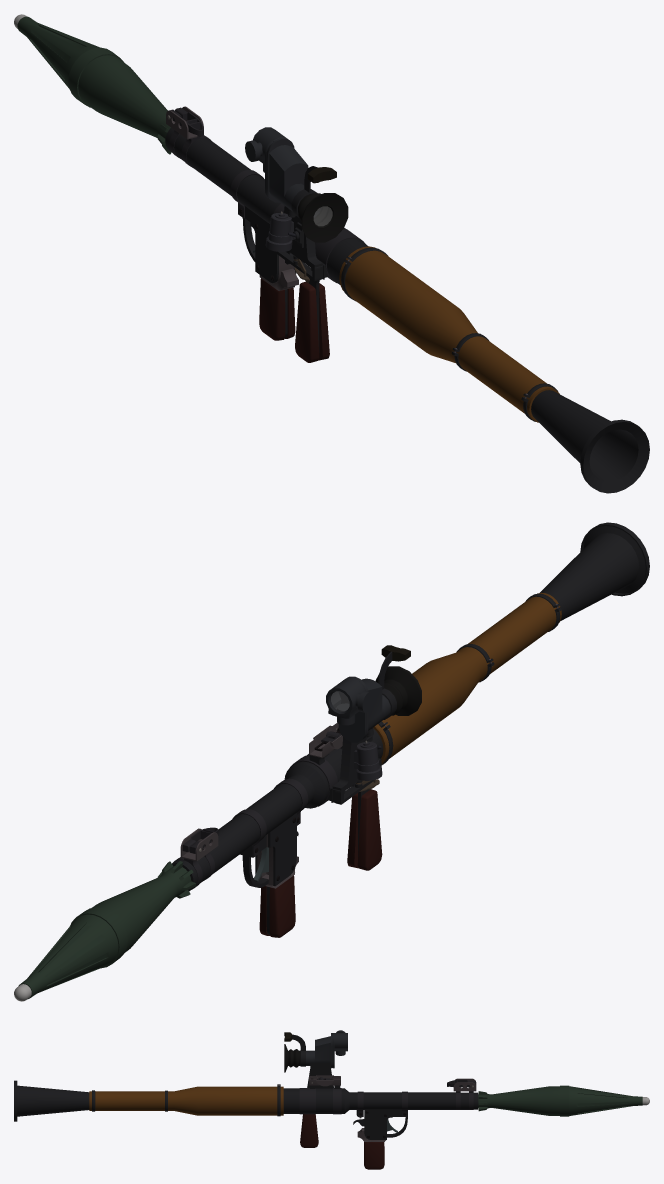
The model's file is rpg7.glb.
3 views of the same model, one above another, from view 1: azimuth 30°, elevation 25°; view 2: azimuth 150°, elevation 25°; view 3: azimuth 270°, elevation 25° (orthographic). The views are drawn at different scales.
Parts seen in each view (by area): view 1: Cylinder.025, Cylinder.034, Cylinder.001, Cylinder.002, Cylinder.015, Cube.016, Cylinder.029, Cube.006, Cube.009, Cylinder.014, Cylinder; view 2: Cylinder.034, Cylinder.025, Cylinder.001, Cylinder.002, Cylinder.015, Cube.016, Cube.006, Cube.009, Cylinder.029, Cylinder.014, Cube.017, Cylinder; view 3: Cylinder.025, Cylinder.034, Cylinder.002, Cylinder.001, Cylinder.015, Cube.009, Cylinder.009, Cube.006, Cube.016, Cylinder.029, Cylinder.022, Cylinder (+1 smaller).
Boxes of the visible parts, left/top/right/bottom form: Cylinder.025: left=339, top=246, right=559, bottom=422; Cylinder.034: left=14, top=14, right=173, bottom=154; Cylinder.001: left=531, top=390, right=649, bottom=493; Cylinder.002: left=165, top=128, right=368, bottom=284; Cylinder.015: left=245, top=127, right=316, bottom=211; Cube.016: left=295, top=282, right=329, bottom=362; Cylinder.029: left=298, top=193, right=348, bottom=242; Cube.006: left=259, top=278, right=295, bottom=340; Cube.009: left=250, top=210, right=296, bottom=283; Cylinder.014: left=265, top=212, right=293, bottom=251; Cylinder: left=341, top=247, right=558, bottom=421; Cylinder.034: left=14, top=861, right=196, bottom=1001; Cylinder.025: left=373, top=592, right=561, bottom=763; Cylinder.001: left=540, top=522, right=649, bottom=620; Cylinder.002: left=172, top=728, right=383, bottom=891; Cylinder.015: left=326, top=676, right=390, bottom=742; Cube.016: left=347, top=789, right=382, bottom=870; Cube.006: left=259, top=875, right=295, bottom=937; Cube.009: left=255, top=813, right=296, bottom=886; Cylinder.029: left=375, top=666, right=421, bottom=715; Cylinder.014: left=354, top=741, right=382, bottom=780; Cube.017: left=332, top=736, right=381, bottom=790; Cylinder: left=378, top=593, right=561, bottom=764; Cylinder.025: left=89, top=1086, right=283, bottom=1115; Cylinder.034: left=478, top=1085, right=649, bottom=1116; Cylinder.002: left=283, top=1088, right=478, bottom=1113; Cylinder.001: left=14, top=1080, right=89, bottom=1121; Cylinder.015: left=306, top=1030, right=347, bottom=1068; Cube.009: left=364, top=1109, right=392, bottom=1139; Cylinder.009: left=299, top=1088, right=341, bottom=1114; Cube.006: left=364, top=1142, right=384, bottom=1169; Cube.016: left=300, top=1114, right=318, bottom=1147; Cylinder.029: left=284, top=1044, right=300, bottom=1072; Cylinder.022: left=309, top=1075, right=340, bottom=1086; Cylinder: left=92, top=1084, right=280, bottom=1116.
Size of the model in its own units: 3.23 by 7.77 by 35.91.
